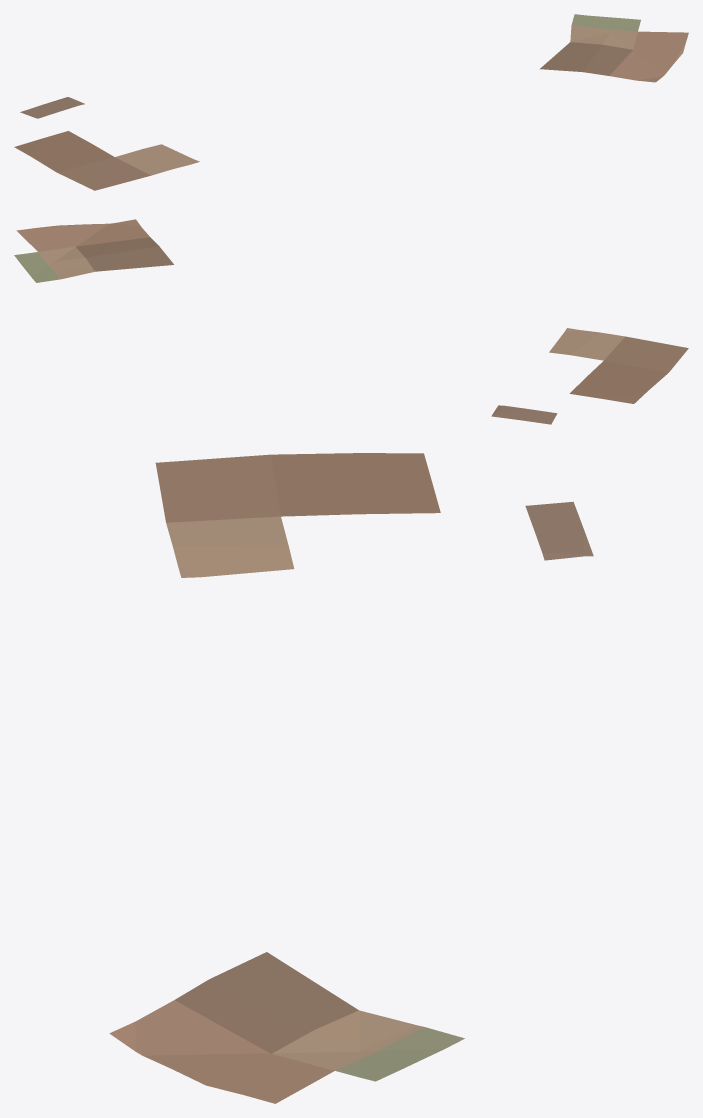
File: farm_-36_-32_soil.glb
3 views of the same model, one above another, from view 1: azimuth 30°, elevation 25°; view 2: azimuth 150°, elevation 25°; view 3: azimuth 270°, elevation 25° (orthographic). The views are drawn at different scales.
Parts seen in each view (by area): view 1: geometry_0; view 2: geometry_0; view 3: geometry_0.
Boxes of the visible parts, <box> form: geometry_0: <box>14,14,688,190</box>; geometry_0: <box>14,219,688,424</box>; geometry_0: <box>109,453,593,1103</box>.
Size of the model in its own units: 526 by 15.56 by 173.
